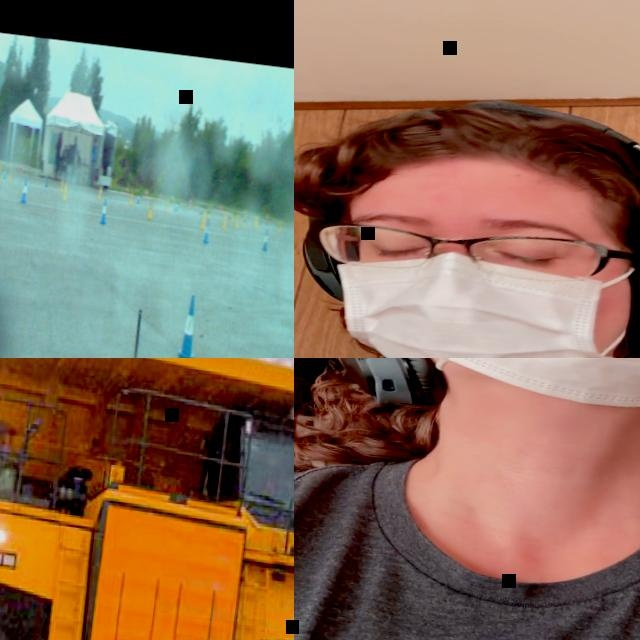Hardhat: (317, 80, 640, 221)
Mask: (314, 234, 638, 358), (391, 358, 640, 422)
NO-Safety Vest: (294, 444, 640, 640)
Person: (294, 59, 640, 358), (294, 358, 640, 640)
Safety Cone: (173, 292, 201, 358), (97, 196, 109, 224), (259, 228, 269, 252), (19, 177, 28, 203), (201, 219, 210, 244), (145, 198, 154, 219), (219, 210, 227, 230), (60, 182, 68, 201), (240, 212, 247, 228), (252, 212, 259, 228), (199, 211, 205, 229), (233, 211, 239, 228), (1, 164, 7, 179), (6, 167, 12, 181), (43, 173, 49, 187), (276, 219, 282, 233), (172, 199, 178, 212), (96, 185, 101, 200), (127, 192, 133, 204), (134, 192, 140, 204), (58, 177, 63, 191), (205, 205, 210, 219), (257, 211, 262, 225), (163, 198, 168, 211), (198, 202, 202, 214), (157, 190, 162, 199), (124, 183, 128, 193), (292, 232, 294, 252), (188, 197, 192, 206), (143, 188, 147, 196)
machinery: (0, 358, 294, 640)
